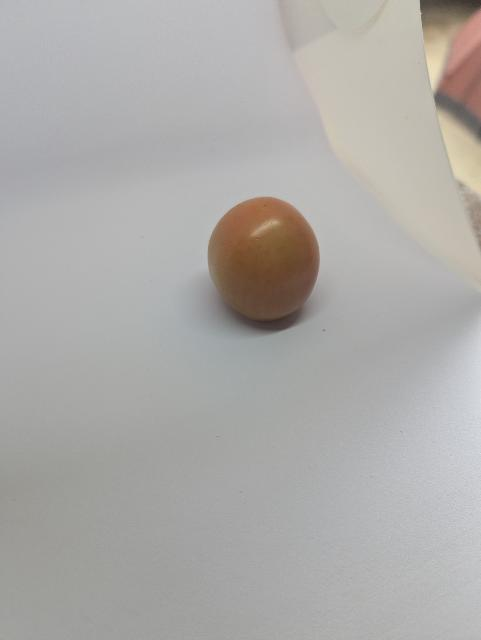turning: (203, 191, 333, 326)
